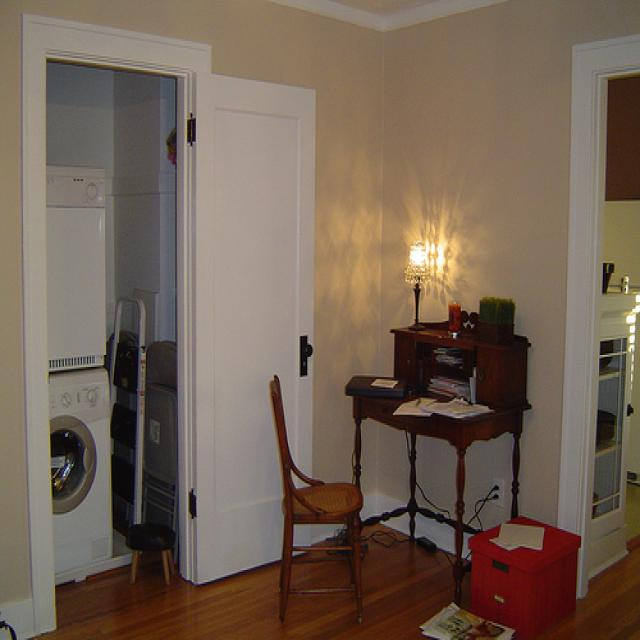chair: (270, 373, 364, 626)
